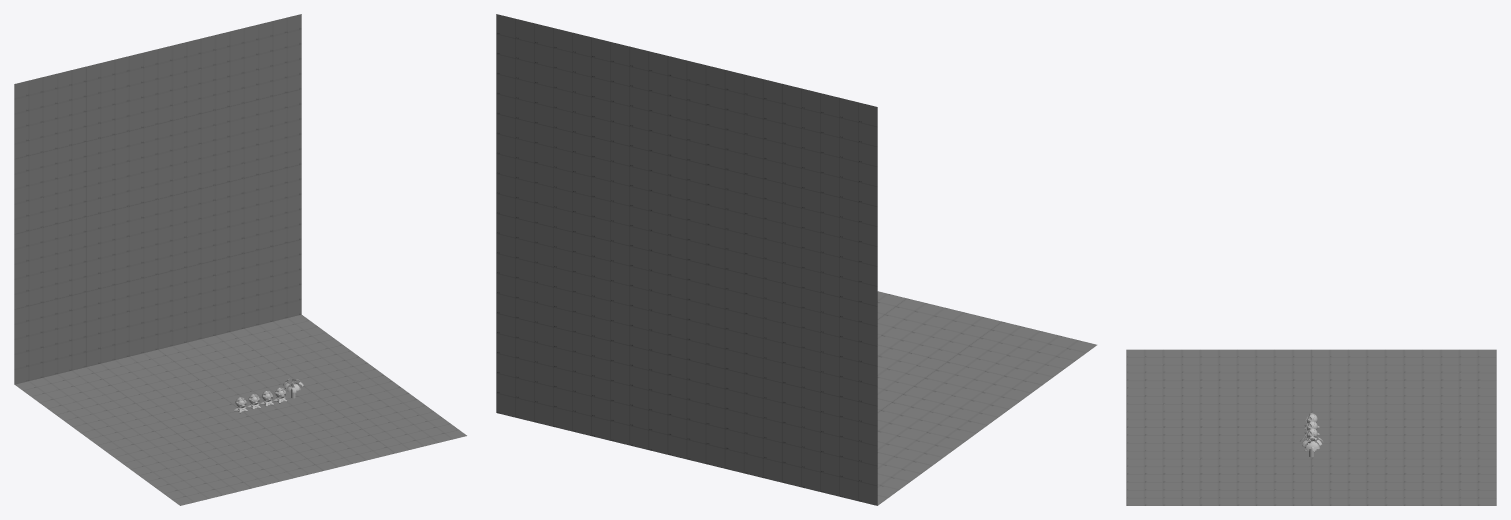
Rendered from all.fbx.
The picture shows the model from 3 angles, left to right: view 1: azimuth 30°, elevation 25°; view 2: azimuth 150°, elevation 25°; view 3: azimuth 270°, elevation 25°; orthographic projection. The views are drawn at different scales.
Visible parts, largest first — view 1: BG; view 2: BG; view 3: BG.
Part boxes in pixels (x1,y1,x2,y2): BG: [14, 14, 466, 505]; BG: [496, 14, 1096, 505]; BG: [1126, 349, 1496, 505].
Size of the model in its own units: 240 by 240 by 240.
10 materials, 1 textured.
